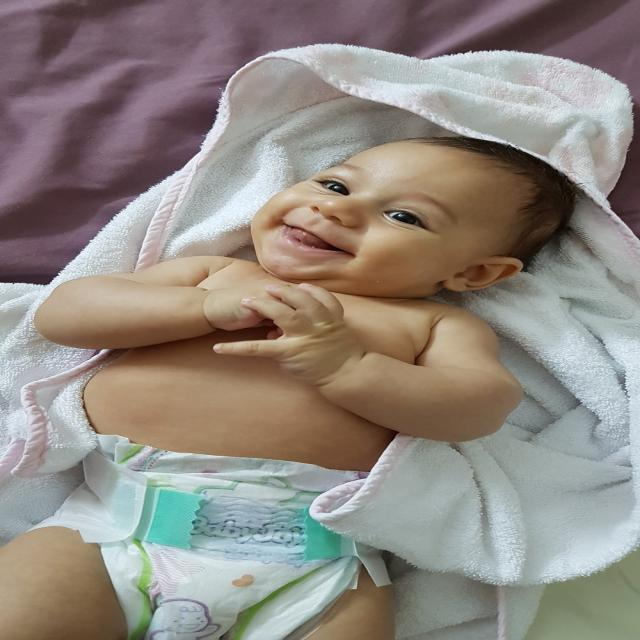non-dog: (0, 143, 572, 637)
